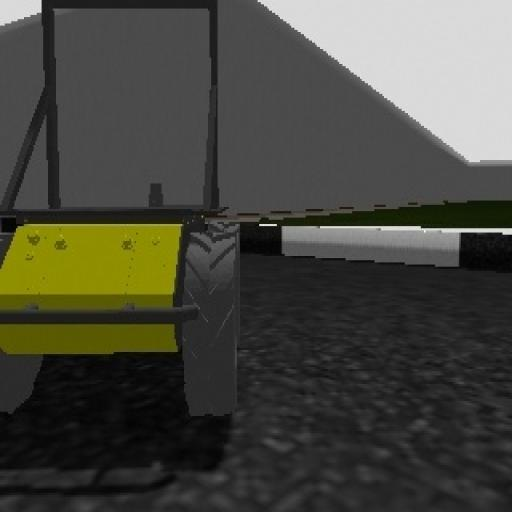huskya200: (0, 0, 243, 429)
